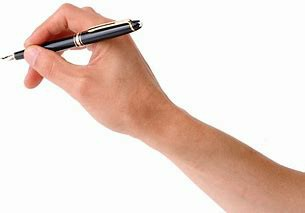pen: (1, 17, 143, 60)
